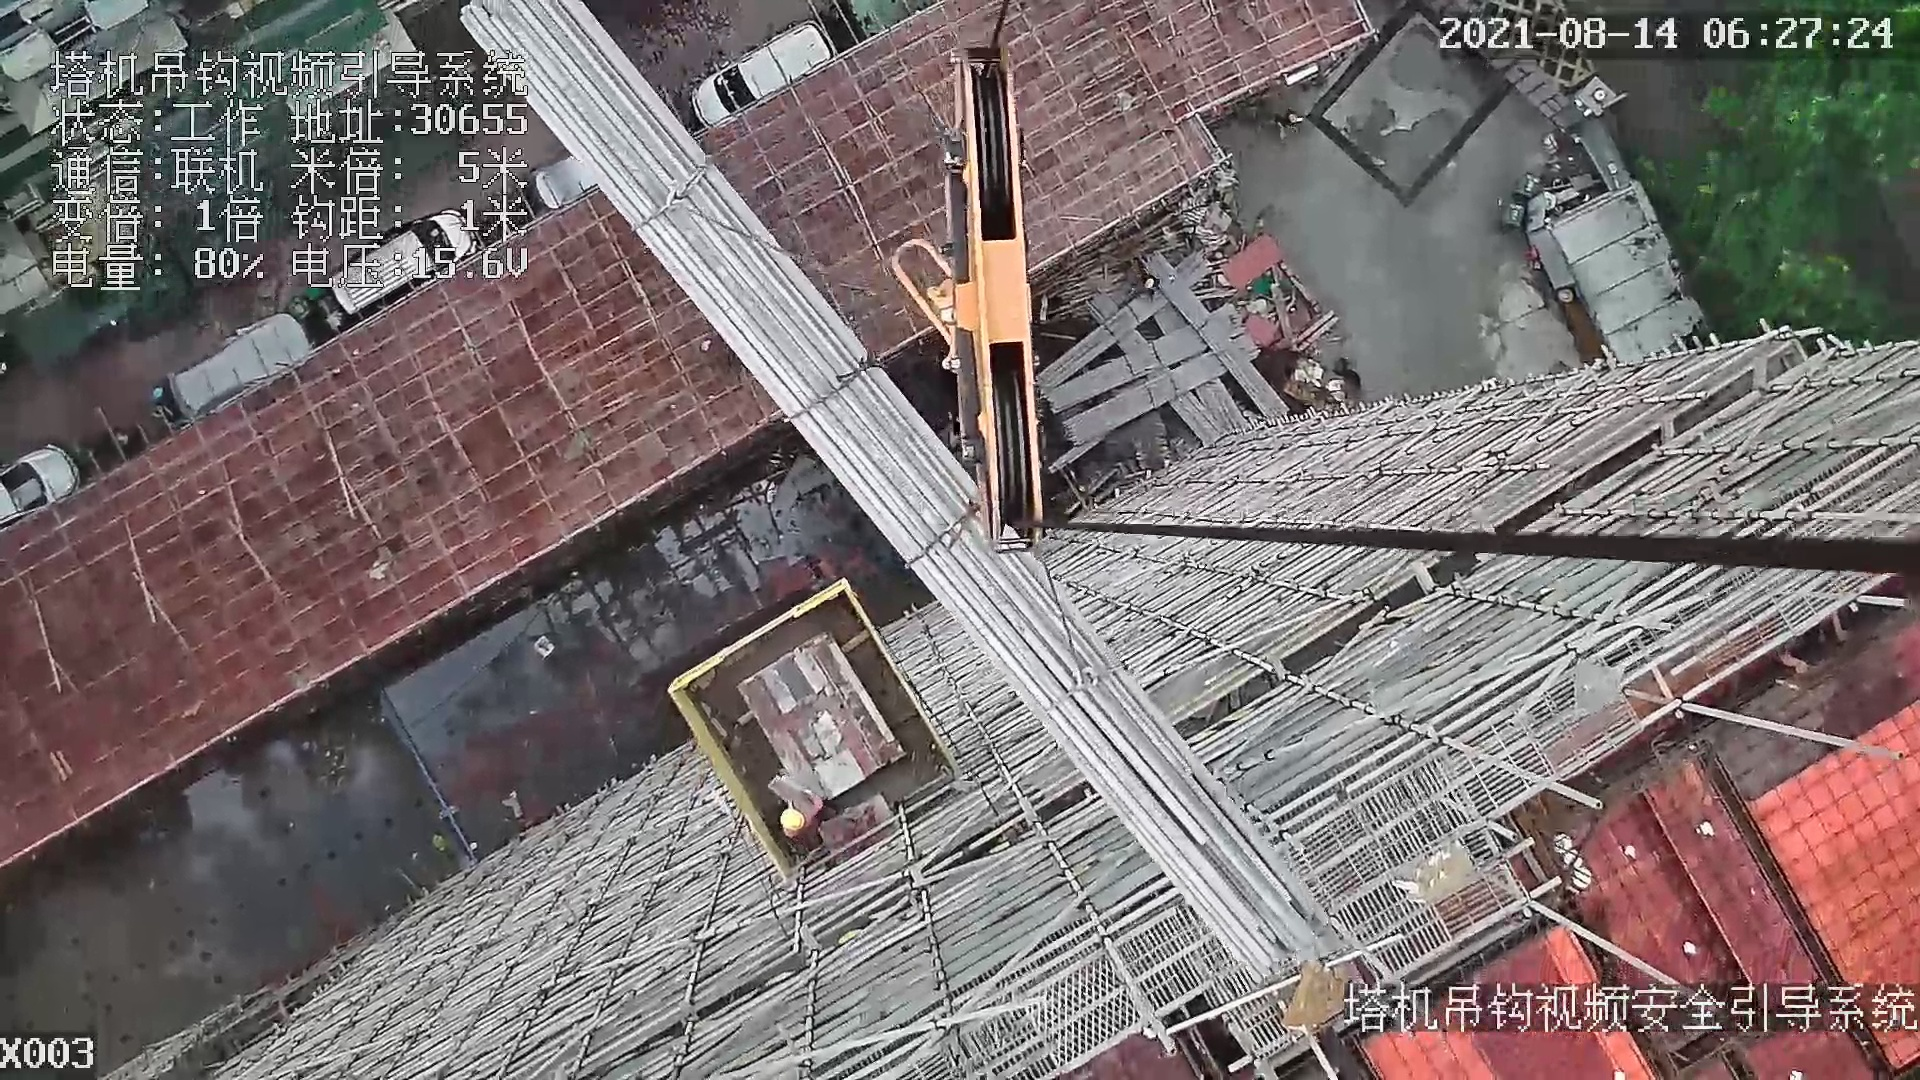helmet: (775, 807, 806, 838)
hook: (945, 48, 1048, 557)
person: (770, 784, 832, 838)
